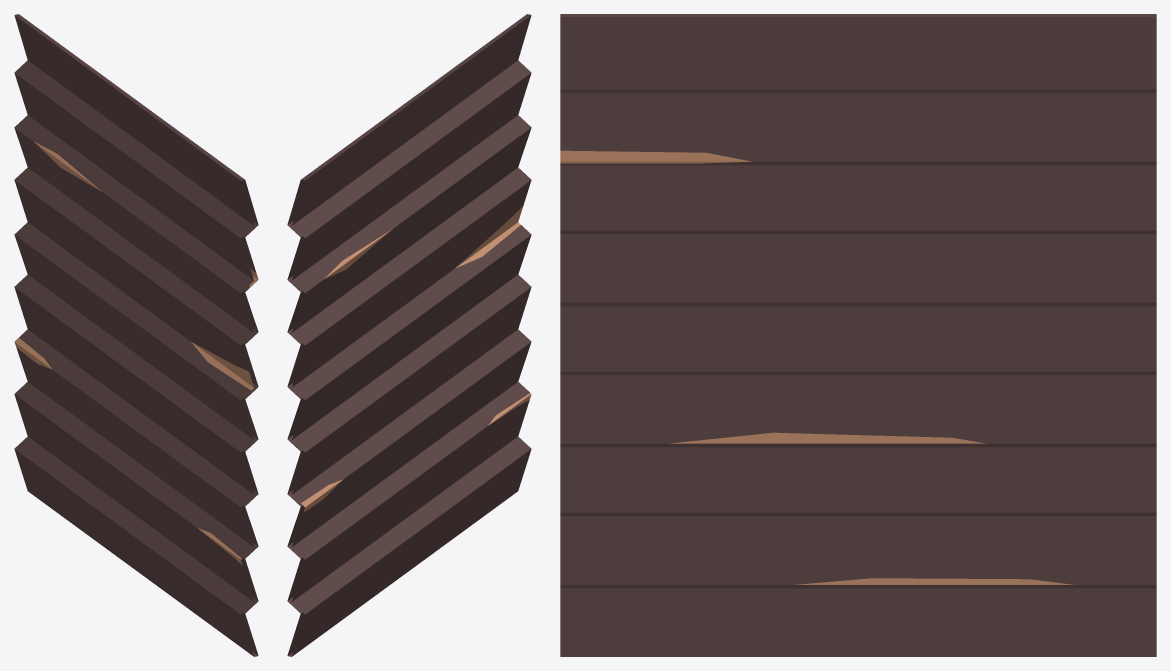
File: builder_61.FBX
3 renders of one model, left to right at view 1: azimuth 30°, elevation 25°; view 2: azimuth 150°, elevation 25°; view 3: azimuth 270°, elevation 25°, orthographic. The views are drawn at different scales.
Parts seen in each view (by area): view 1: builder_61; view 2: builder_61; view 3: builder_61.
Part boxes in pixels (x1,y1,x2,y2): builder_61: (14,14,258,656); builder_61: (287,14,531,656); builder_61: (560,14,1156,656).
Bounding box in the file's own units: 2.79 × 71.88 × 61.52.
